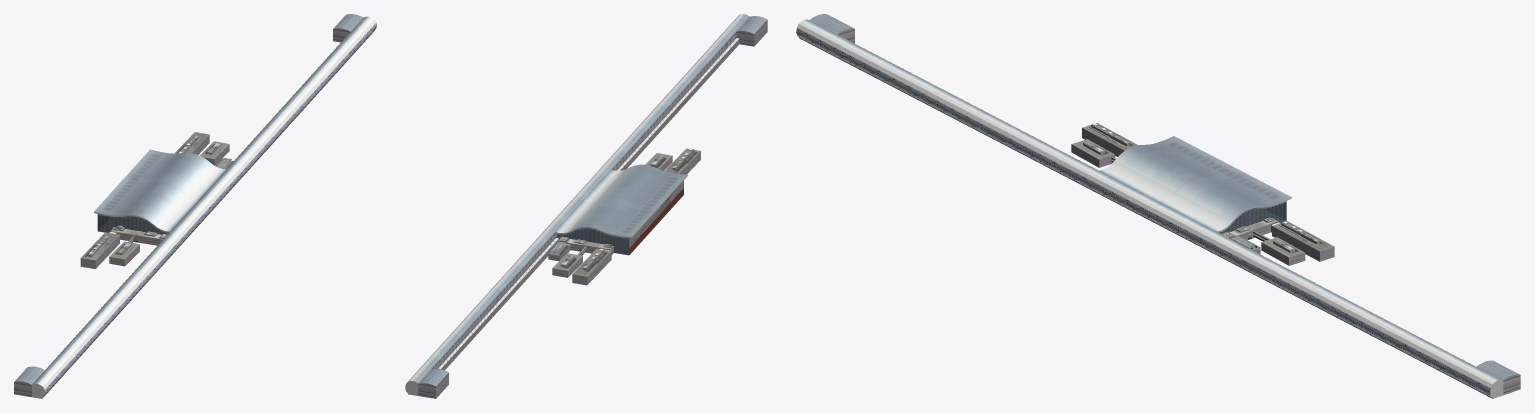
The model's file is kansai-airport.dae.
The picture shows the model from 3 angles, left to right: view 1: azimuth 30°, elevation 25°; view 2: azimuth 210°, elevation 25°; view 3: azimuth 270°, elevation 25°; orthographic projection. The views are drawn at different scales.
Parts seen in each view (by area): view 1: SketchUp (×13); view 2: SketchUp (×12), Component_4 (×2); view 3: SketchUp (×12).
Boxes of the visible parts, box(x1,y1,x2,y2) form: SketchUp (×13): box(14, 16, 376, 398); SketchUp (×12): box(408, 14, 767, 398); Component_4 (×2): box(629, 181, 683, 254); SketchUp (×12): box(796, 19, 1501, 398).
Size of the model in its own units: 52228 by 43063 by 1779.
